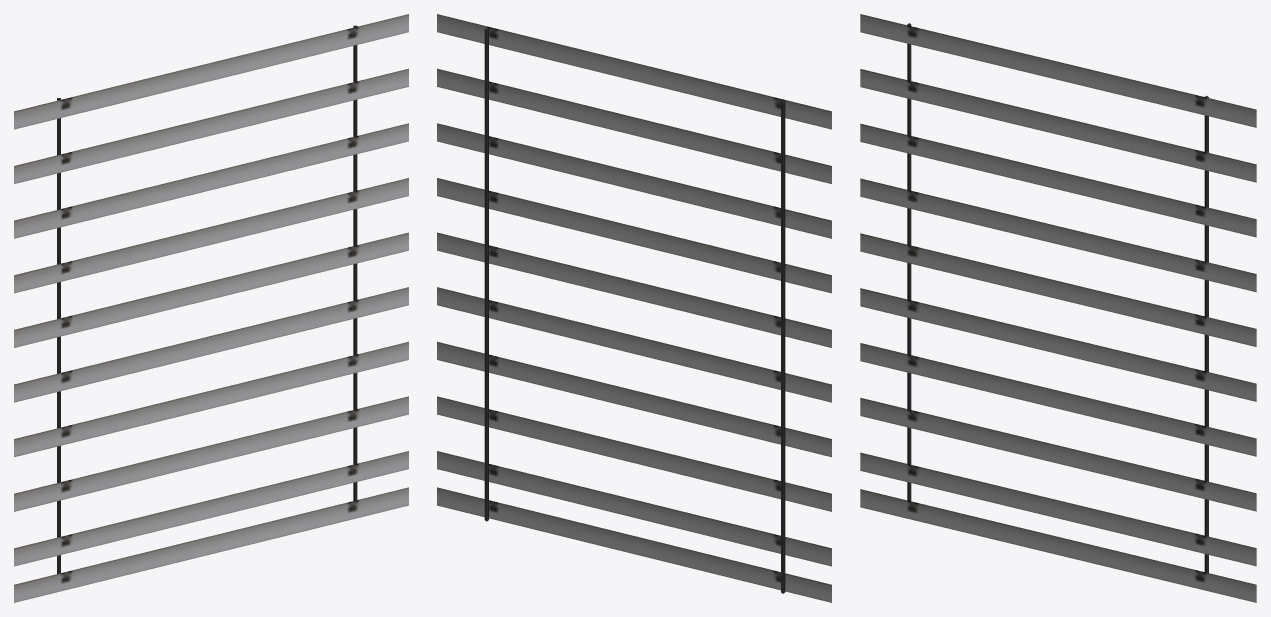
The model's file is curtain tall open.FBX.
The picture shows the model from 3 angles, left to right: view 1: azimuth 30°, elevation 25°; view 2: azimuth 150°, elevation 25°; view 3: azimuth 330°, elevation 25°; orthographic projection.
Parts seen in each view (by area): view 1: curtain tall open; view 2: curtain tall open; view 3: curtain tall open.
Boxes of the visible parts, x1=… form: curtain tall open: x1=14, y1=14, x2=408, y2=602; curtain tall open: x1=437, y1=14, x2=831, y2=602; curtain tall open: x1=860, y1=14, x2=1256, y2=602.
Size of the model in its own units: 37.37 by 0.4917 by 44.55.
